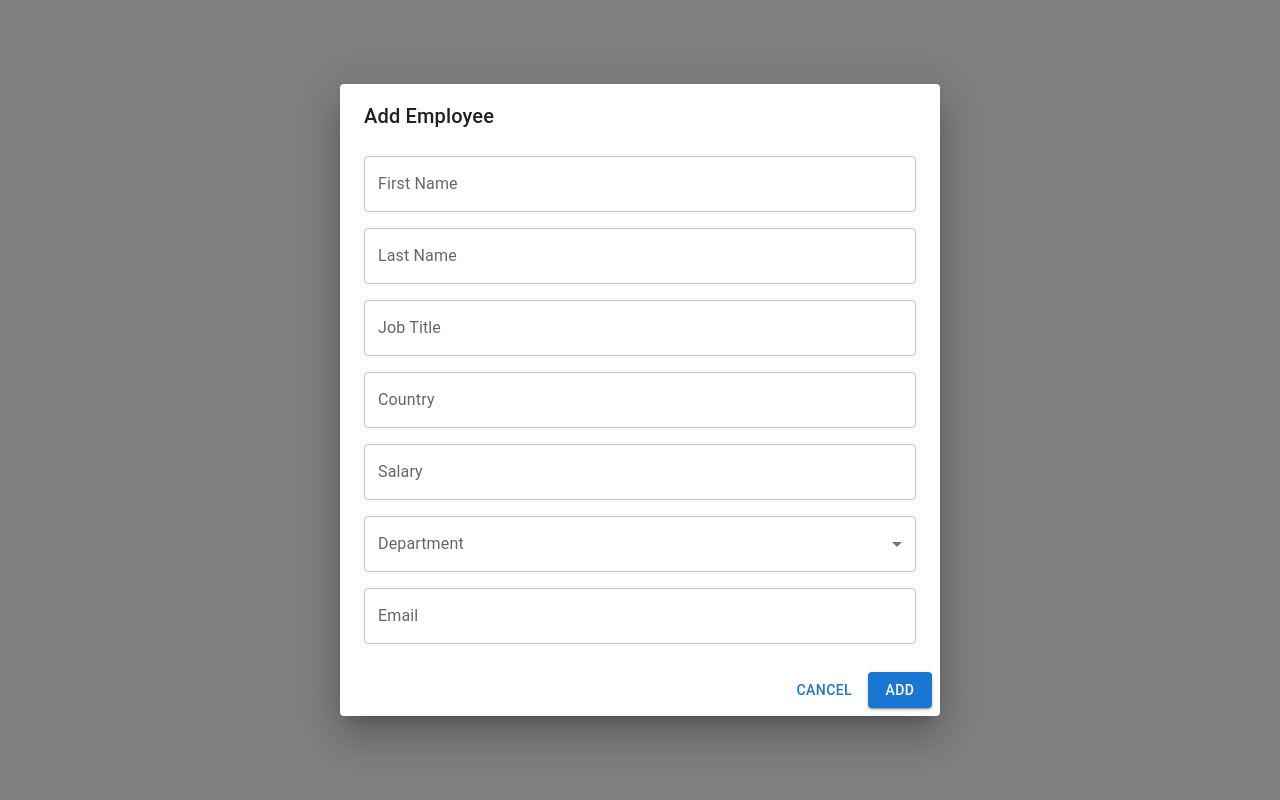
Test: EmployeeModal › should show error when required fields are missing
Click the button "Add". click: (900, 690)
box: [868,672,932,708]
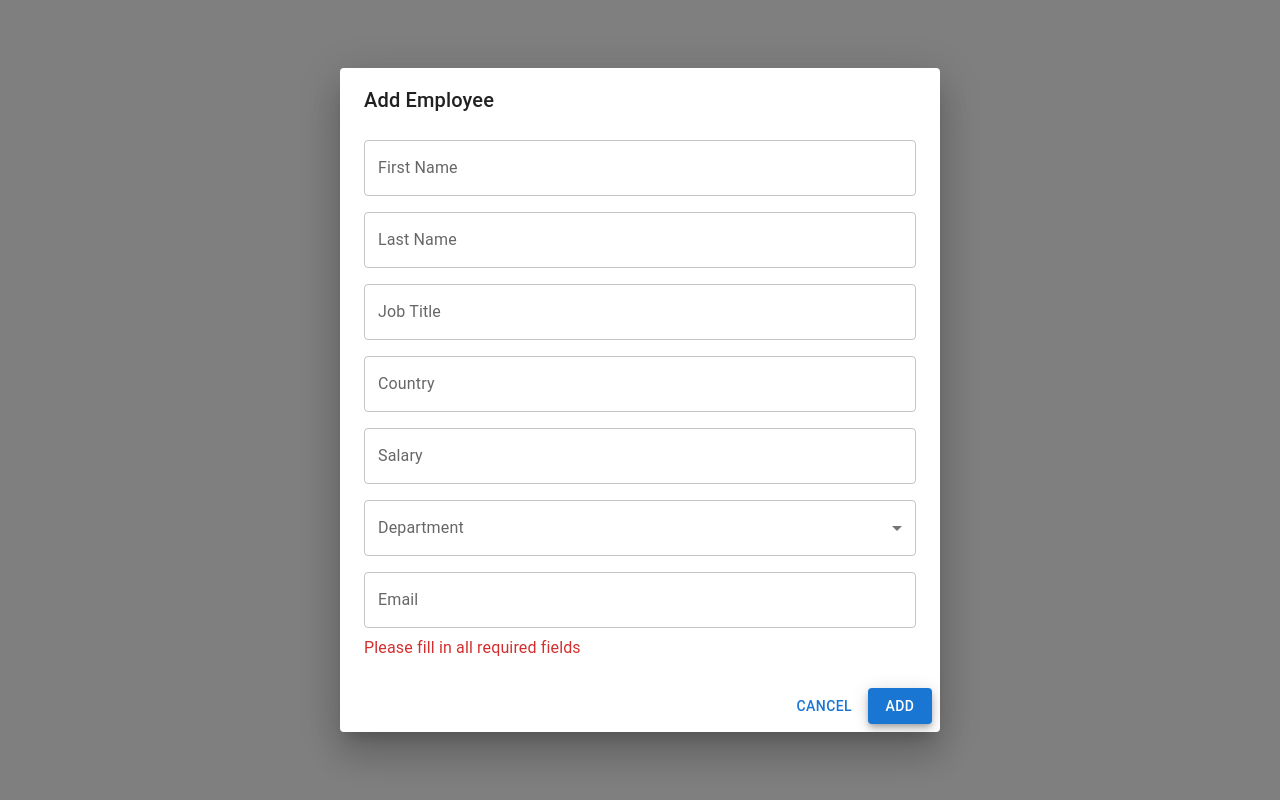
Check: the text "Please fill in all required fields" is shown, box [364,638,581,657]
